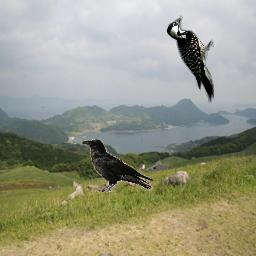Crow: (81, 139, 153, 192)
Woodpecker: (166, 15, 214, 103)
